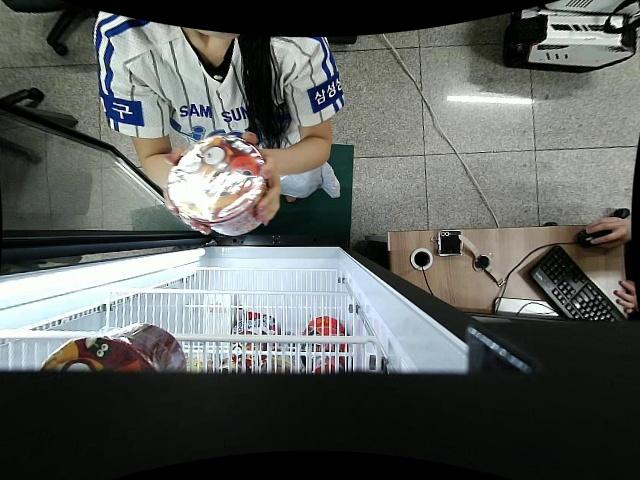00_hand: (163, 153, 213, 238), (241, 131, 281, 226)
05_nuguri_L: (169, 137, 270, 237)
